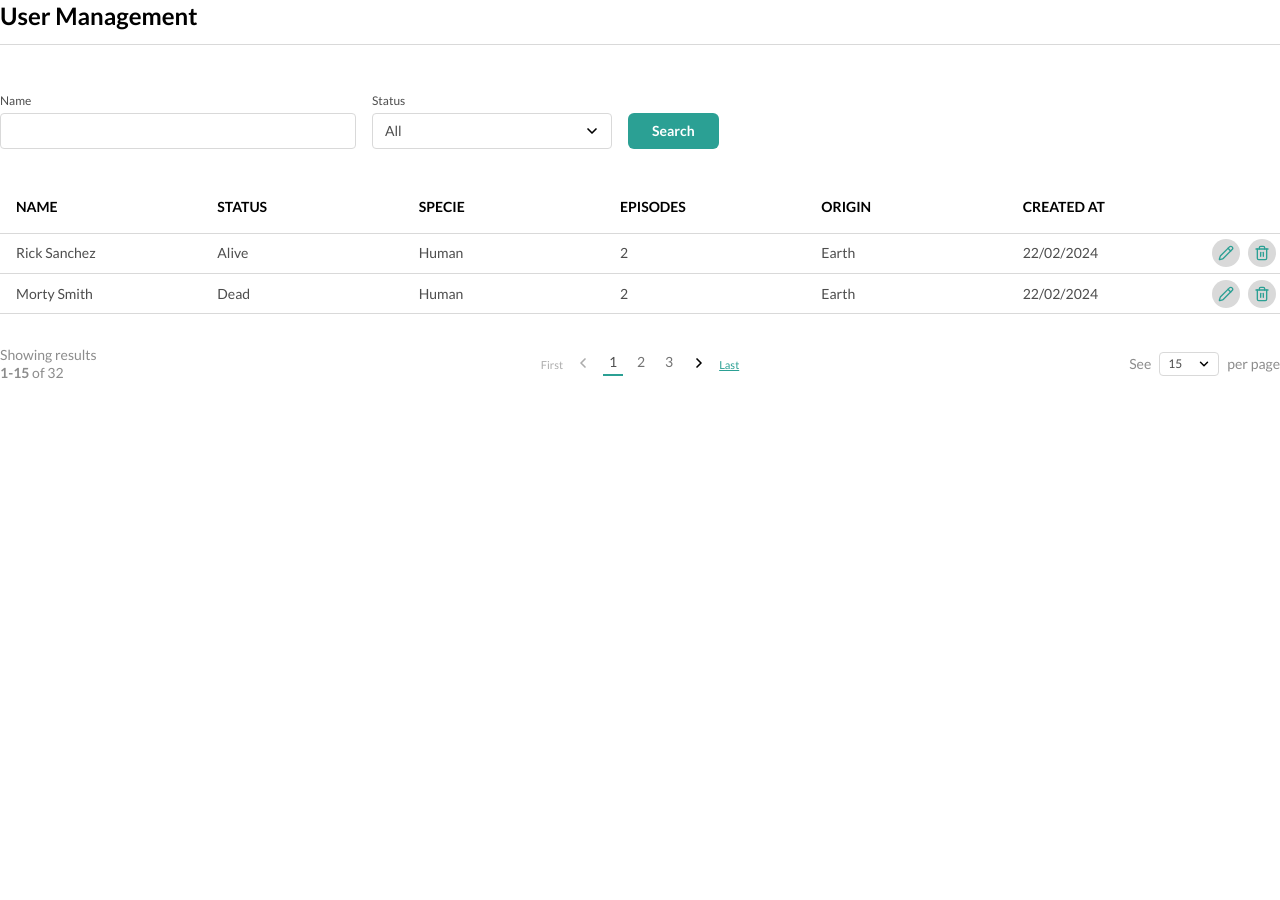
Test: UsersPage › deve remover um usuário após a confirmação
Expected: the table is shown, [0,181,1279,314]
What coordinates should you click on to do the following:
click the button named "Delete Morty Smith"
I would click on:
 (1262, 294)
Its box is [1248,280,1276,308].
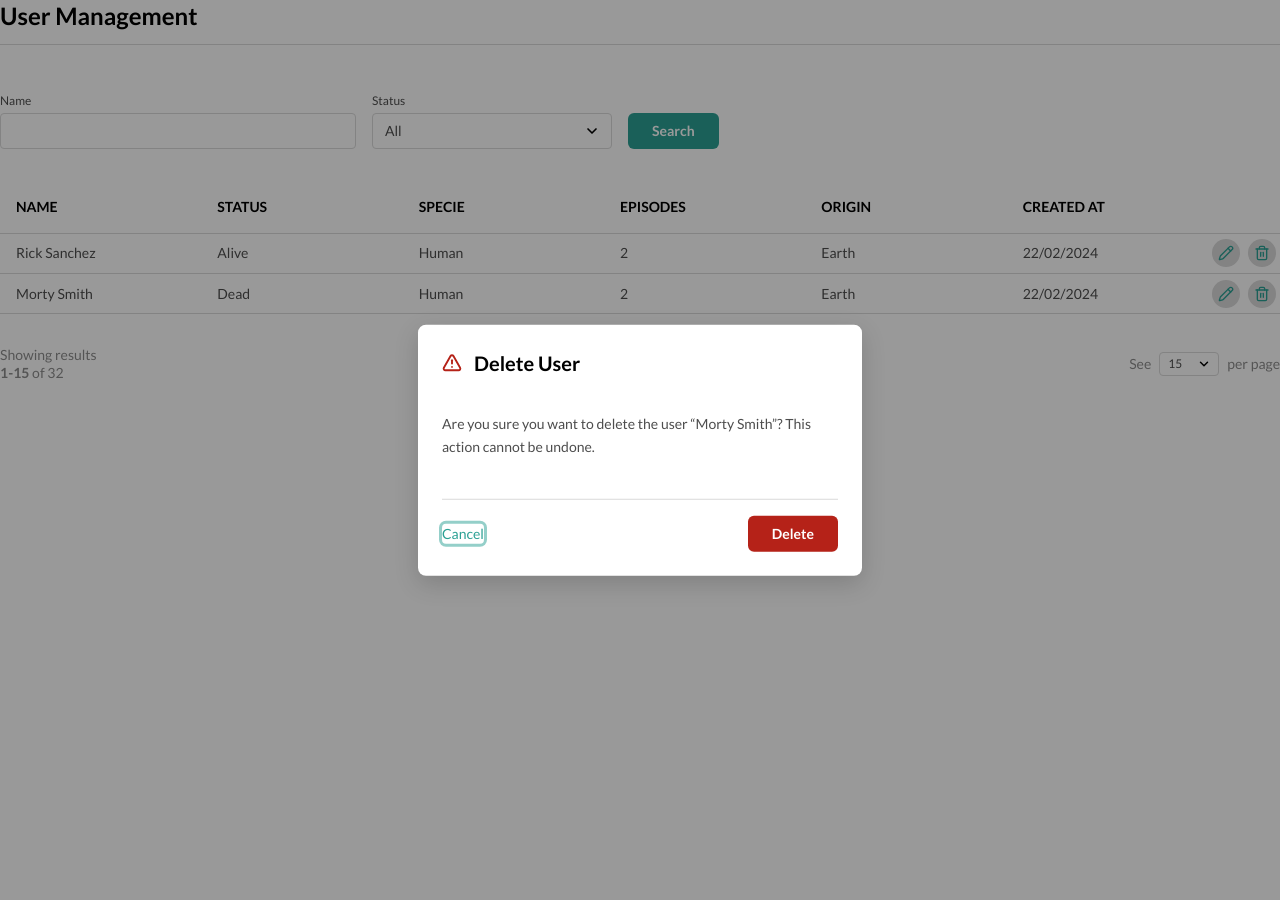
What coordinates should you click on to do the following:
click the button "Delete"
I would click on:
 (793, 533)
Its box is [748,515,838,551].
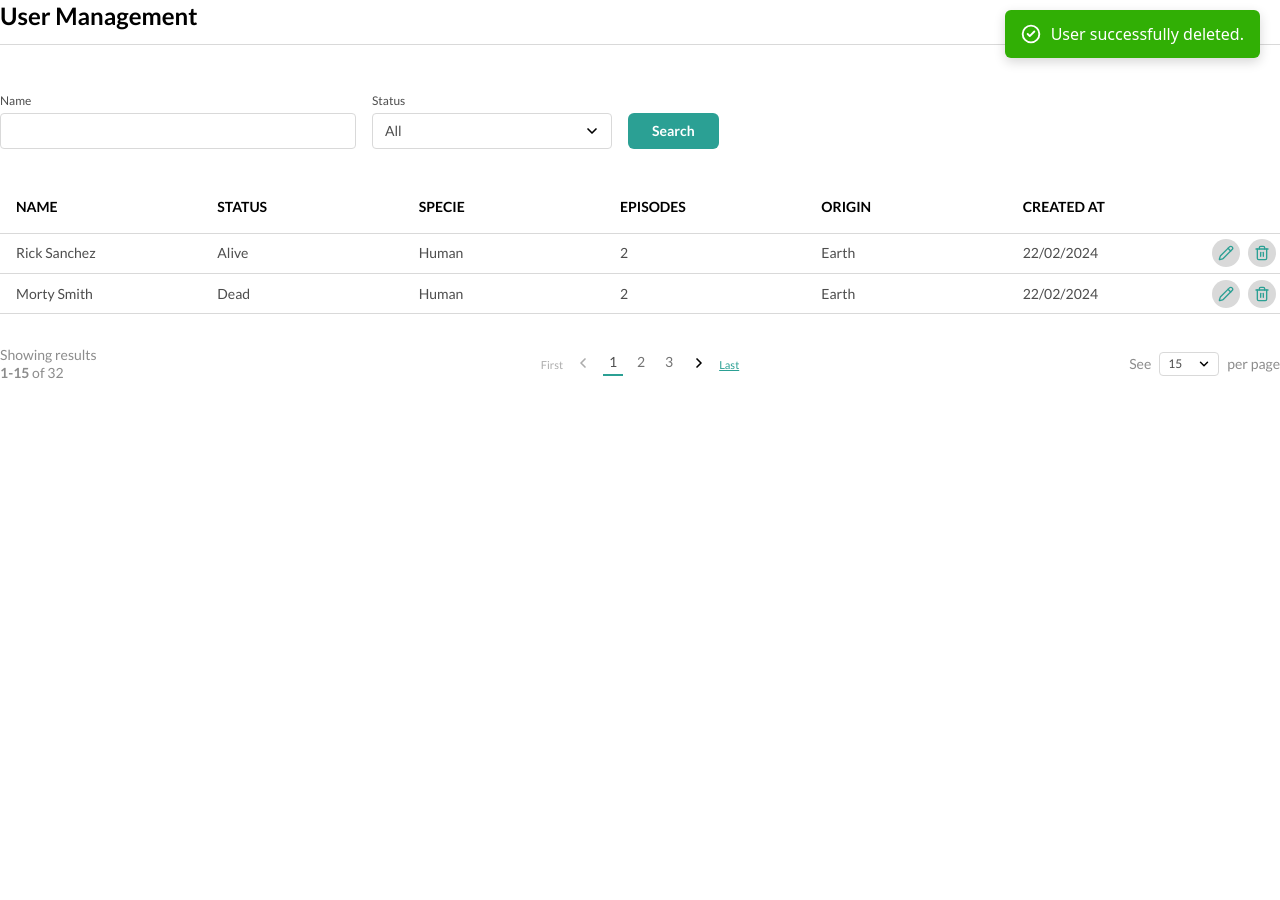
Expected: the text "User successfully deleted." is shown, [1051,22,1244,46]
